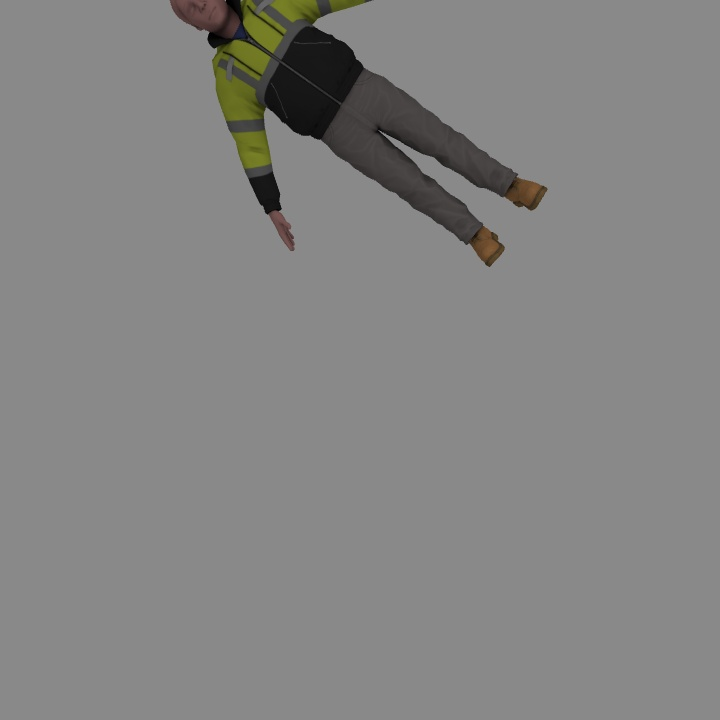victim: (169, 1, 547, 264)
